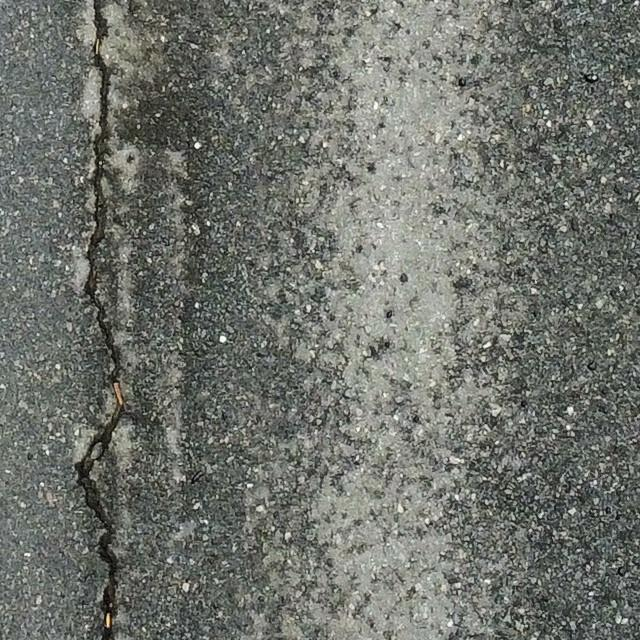LongitudinalCrack: (71, 1, 124, 640)
